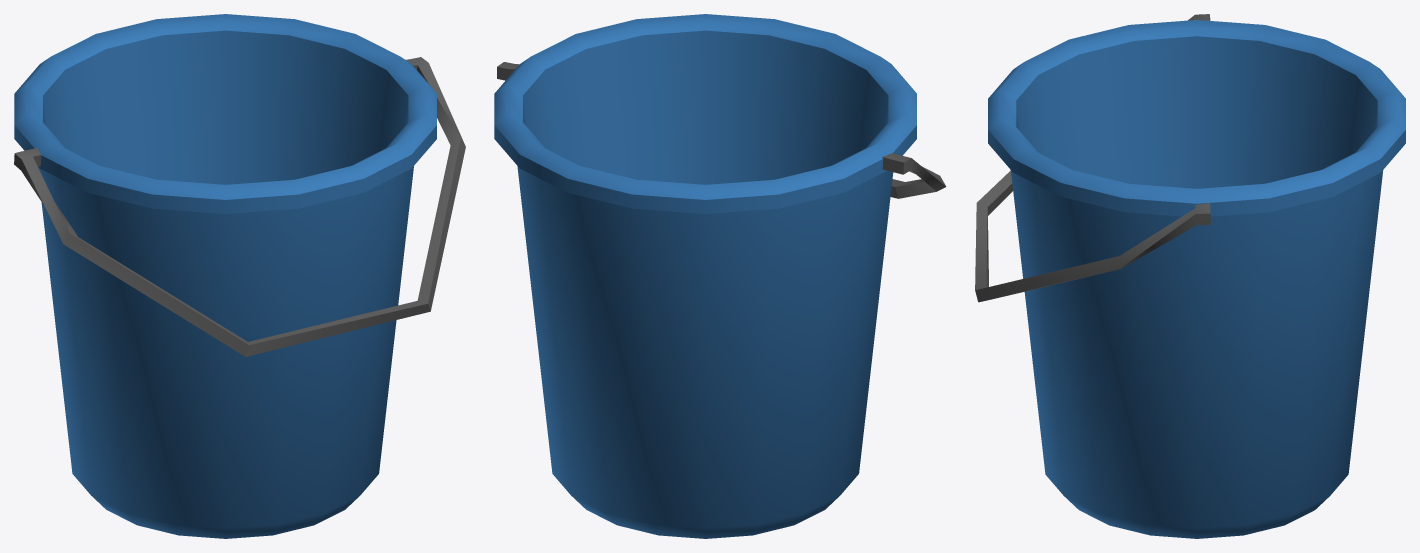
File: Bucket001.FBX
3 renders of one model, left to right at view 1: azimuth 30°, elevation 25°; view 2: azimuth 150°, elevation 25°; view 3: azimuth 270°, elevation 25°, orthographic.
Visible parts, largest first — view 1: Cylinder001; view 2: Cylinder001; view 3: Cylinder001.
Boxes of the visible parts, left/top/right/bottom form: Cylinder001: left=14, top=14, right=465, bottom=538; Cylinder001: left=494, top=14, right=946, bottom=538; Cylinder001: left=975, top=14, right=1405, bottom=538.
Size of the model in its own units: 109 by 97.38 by 101.
